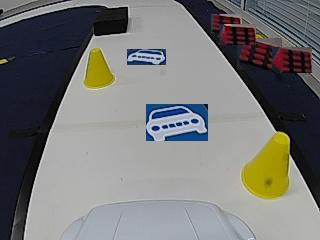block: (93, 7, 128, 36)
cone: (242, 130, 290, 199), (84, 50, 115, 90)
